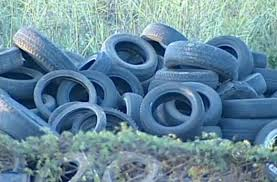tire: (137, 83, 205, 143), (13, 28, 78, 84), (33, 70, 100, 122), (164, 39, 240, 82), (56, 69, 113, 122), (166, 80, 225, 127), (100, 34, 158, 81), (53, 105, 109, 147), (154, 66, 219, 93), (1, 93, 57, 123), (1, 67, 49, 99)
